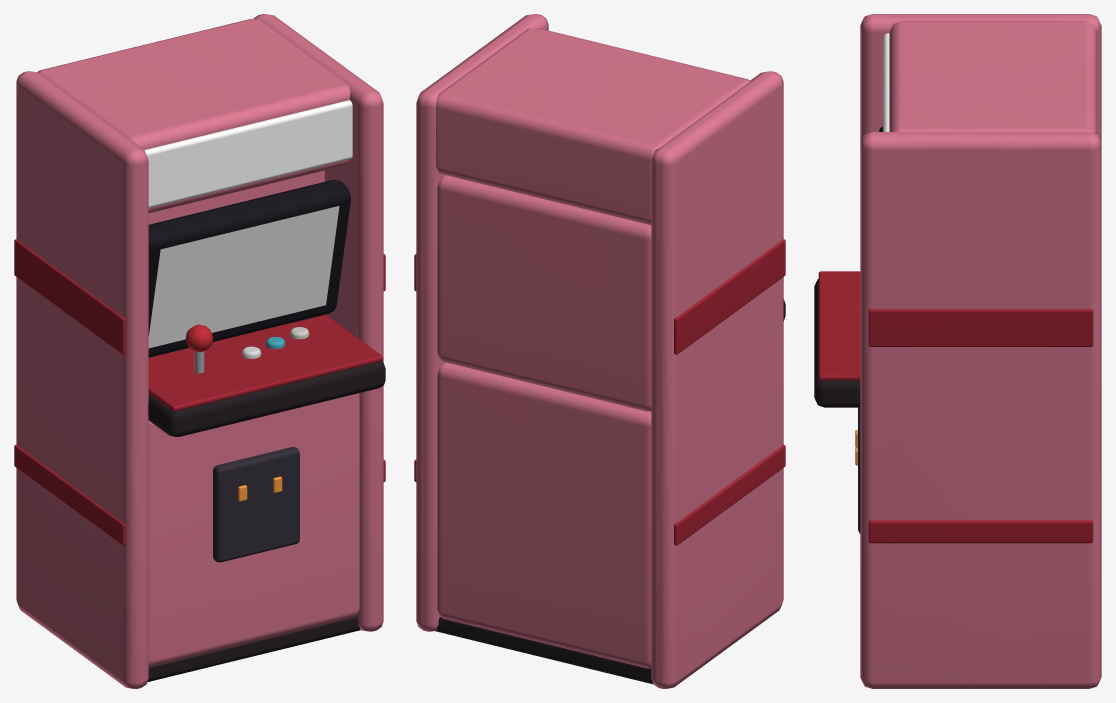
The model's file is furn_cab_dumpling.glb.
3 views of the same model, side by side, from view 1: azimuth 30°, elevation 25°; view 2: azimuth 150°, elevation 25°; view 3: azimuth 270°, elevation 25° (orthographic). The views are drawn at different scales.
Parts seen in each view (by area): view 1: furn_cab_dumpling_main, furn_cab_dumpling_screen, furn_cab_dumpling_glow; view 2: furn_cab_dumpling_main; view 3: furn_cab_dumpling_main, furn_cab_dumpling_glow.
Part boxes in pixels (bbox=[...]): furn_cab_dumpling_main: bbox=[14, 14, 385, 688]; furn_cab_dumpling_screen: bbox=[148, 206, 339, 348]; furn_cab_dumpling_glow: bbox=[144, 100, 352, 501]; furn_cab_dumpling_main: bbox=[414, 14, 785, 688]; furn_cab_dumpling_main: bbox=[814, 14, 1101, 688]; furn_cab_dumpling_glow: bbox=[855, 33, 889, 465].
Size of the model in its own units: 0.752 by 1.47 by 0.69.
